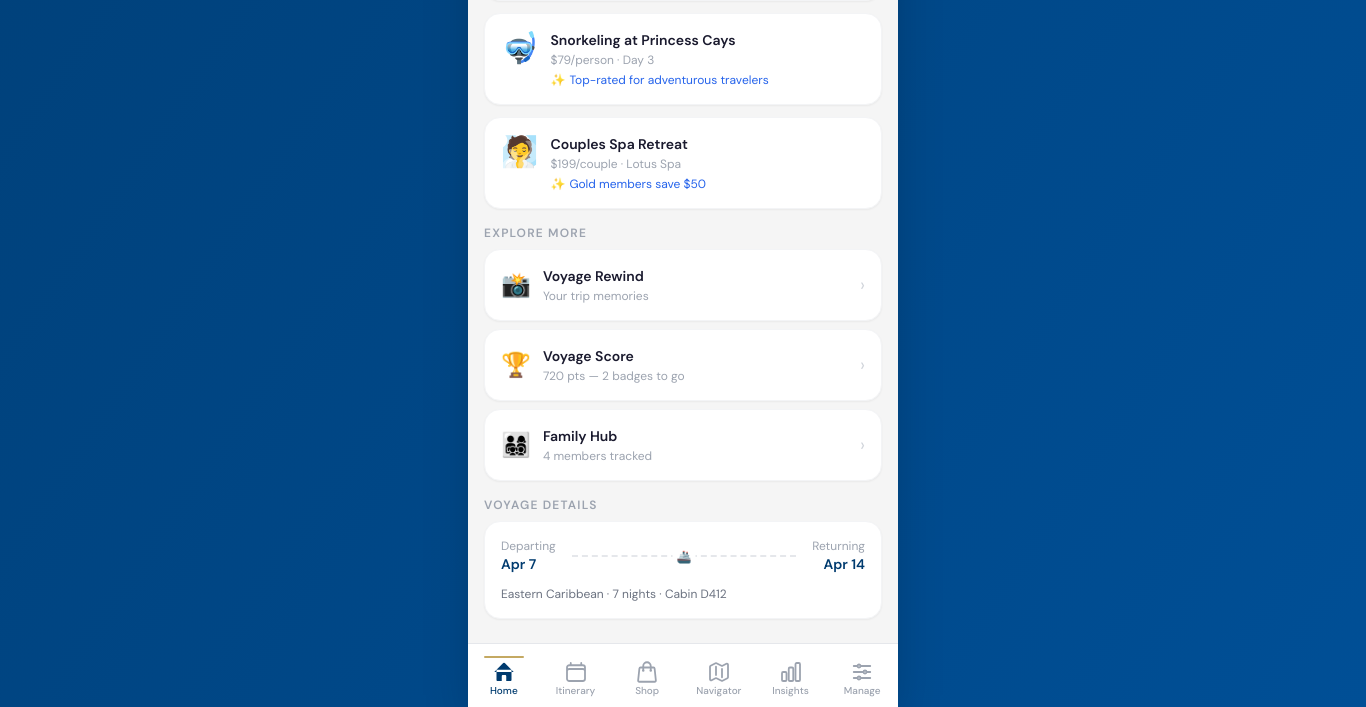
Test: App routing › navigates to Itinerary page when Itinerary tab is clicked
(page scrolled)
Click the link "Itinerary".
click(576, 678)  # box [556, 660, 595, 696]
(page scrolled)
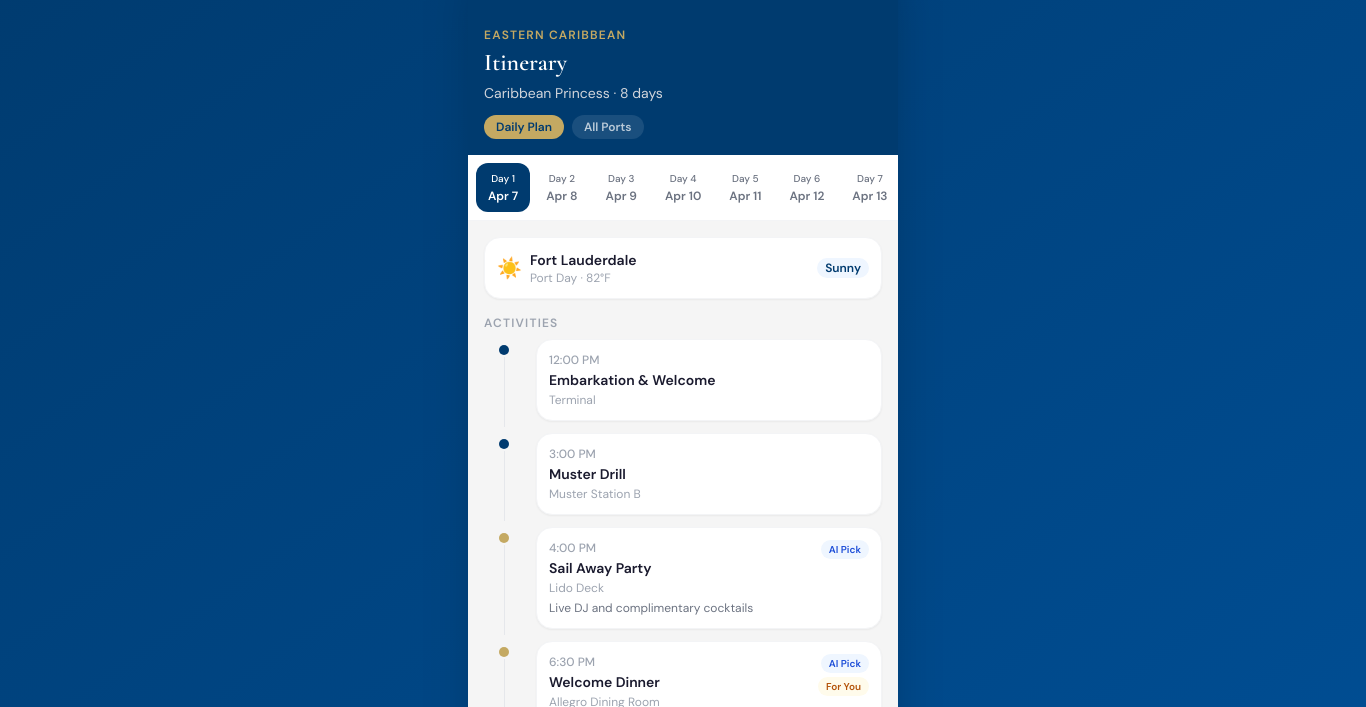
Check: the heading "Itinerary" is shown, box [484, 48, 567, 77]
